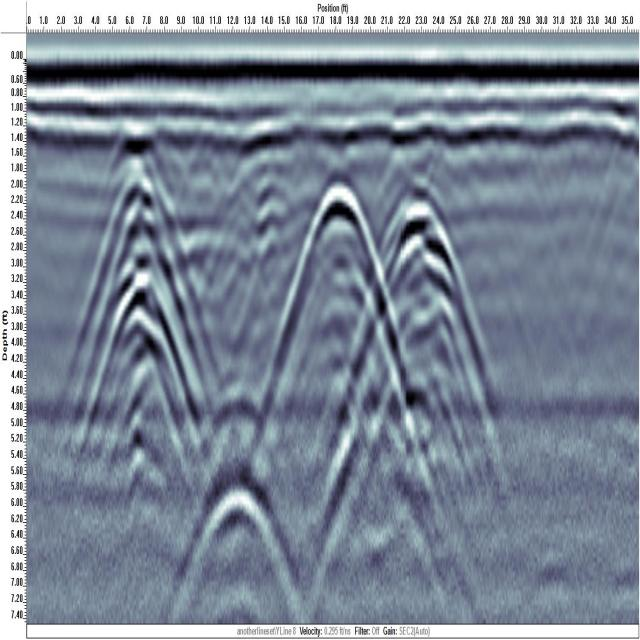hyperbola: (282, 158, 399, 414), (364, 178, 475, 422), (93, 151, 185, 422), (187, 449, 288, 590)
